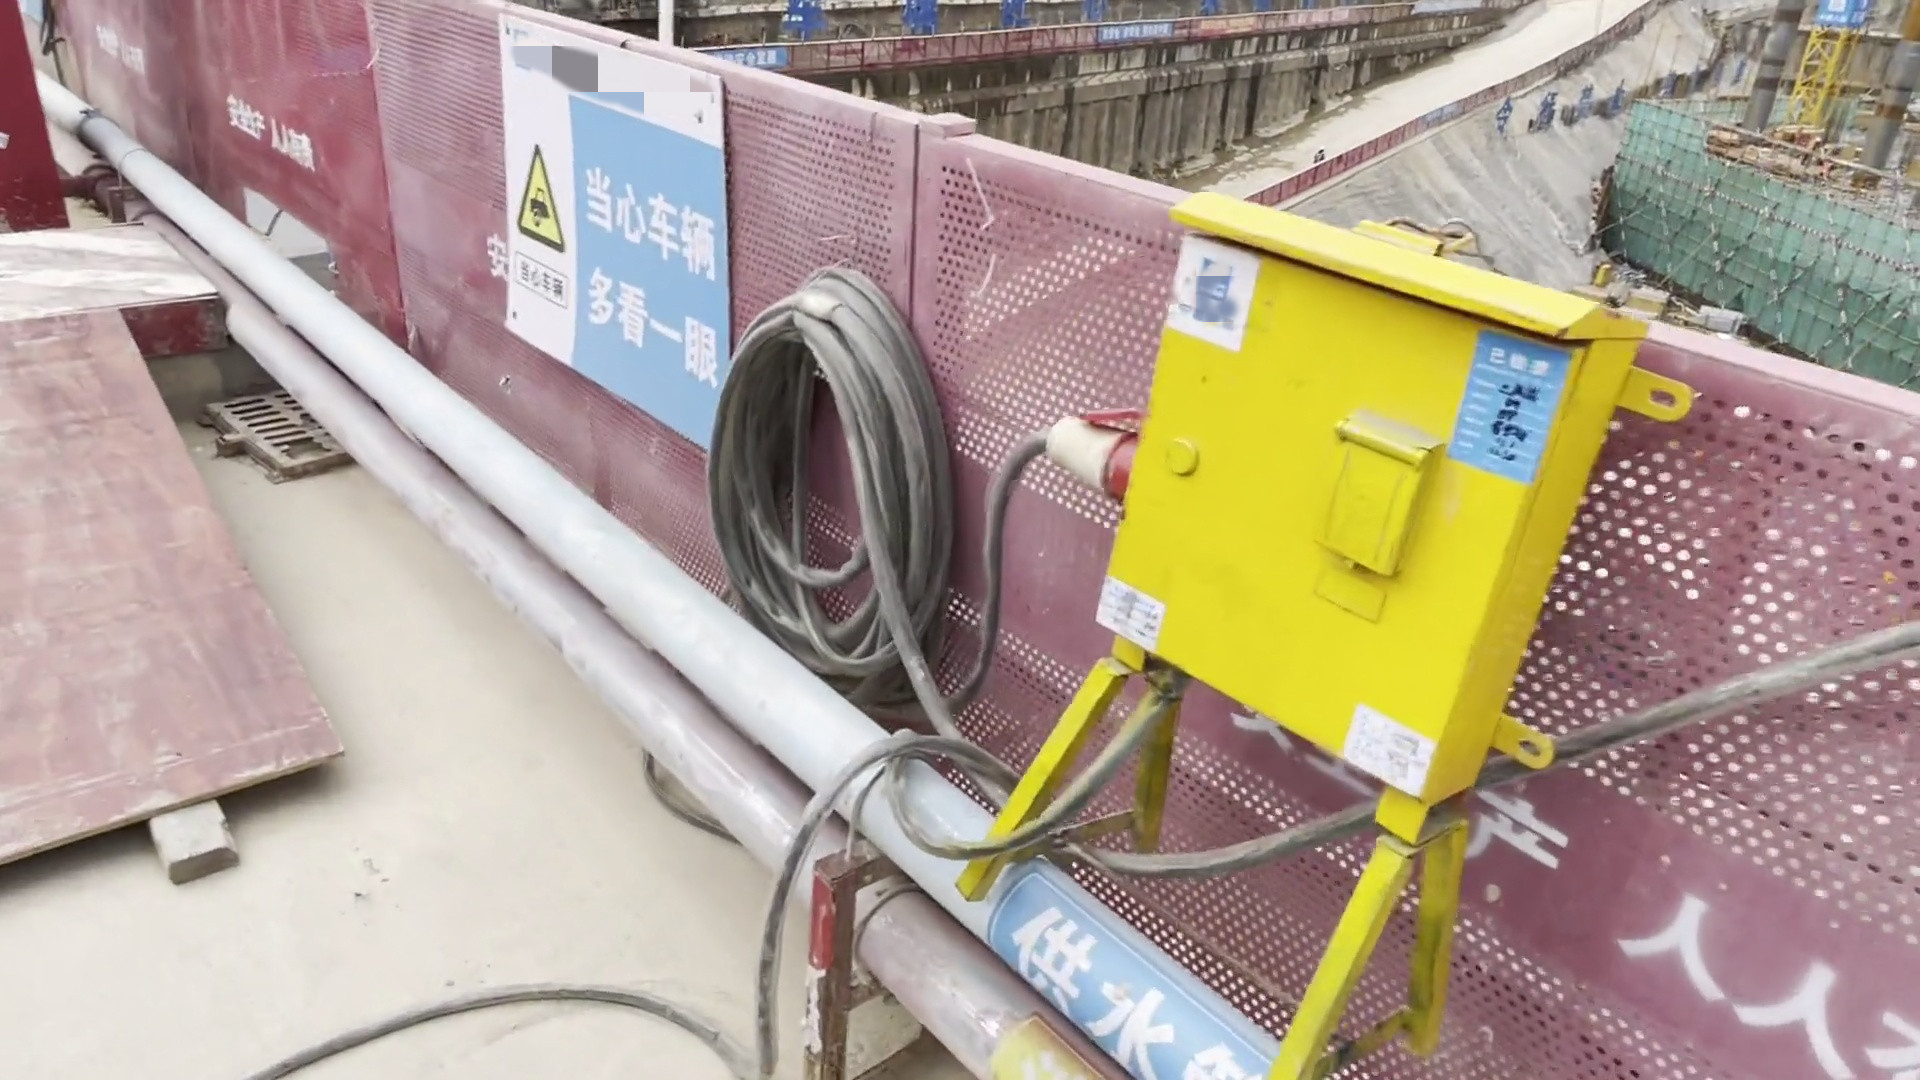board: (1, 293, 367, 905)
ebox: (951, 193, 1713, 1080)
fence: (749, 88, 1174, 389)
slogan: (477, 1, 760, 454)
